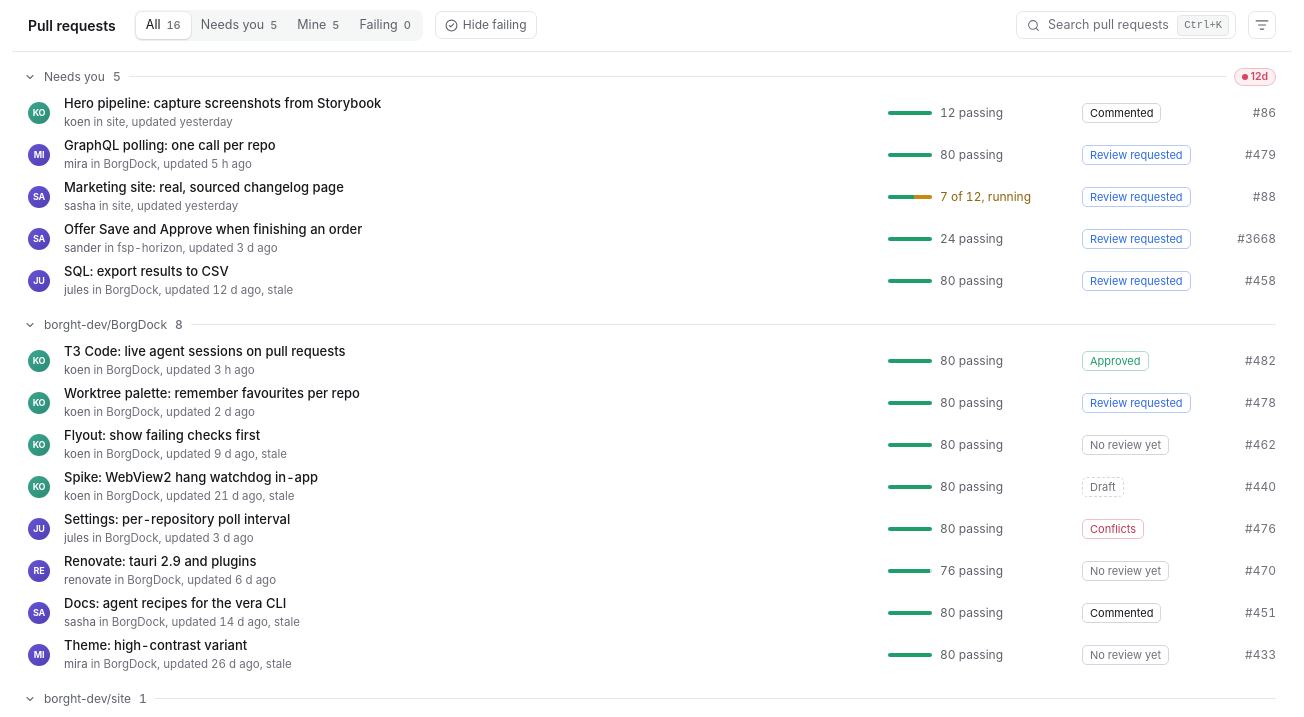
Test: PrList › shows an empty state under a filter with no matches
Click the button "Failing 0". click: (385, 25)
box: [350,12,421,39]
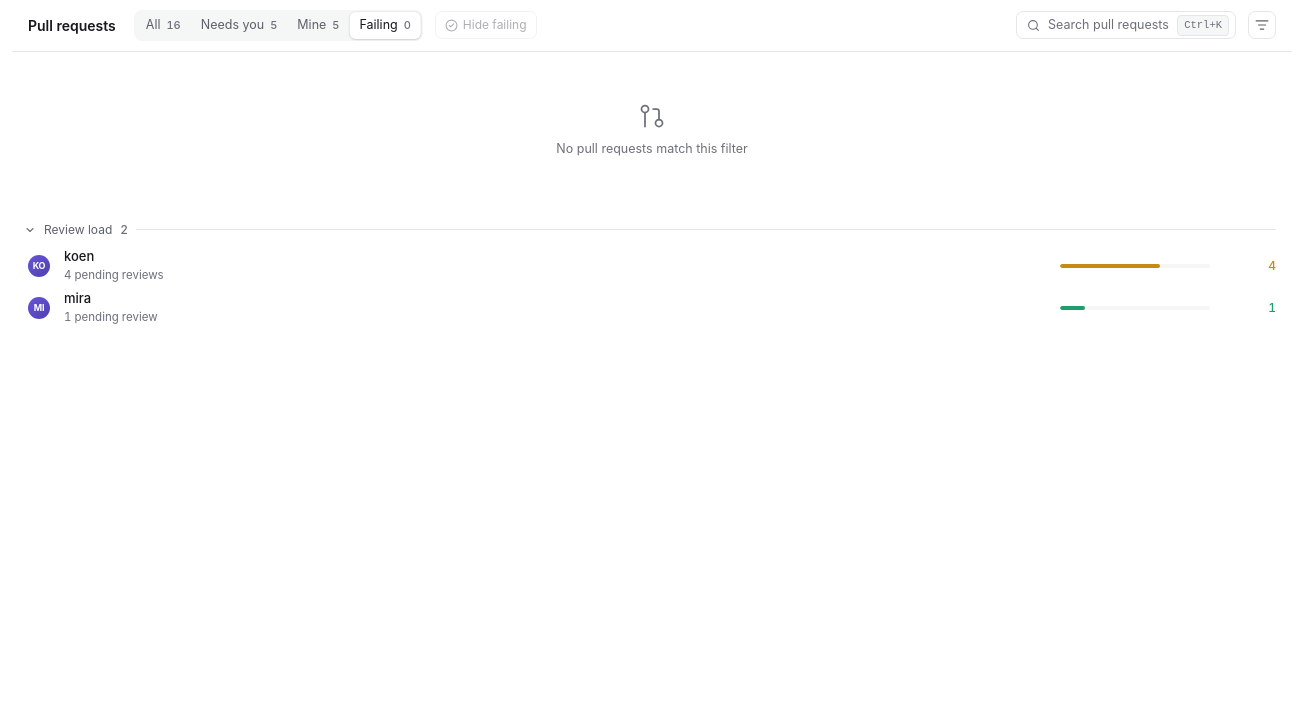
Expected: the heading "Pull requests" is shown, [28,15,116,36]
Now the text "No pull requests match this filter" is shown, box [556,140,748,159]
